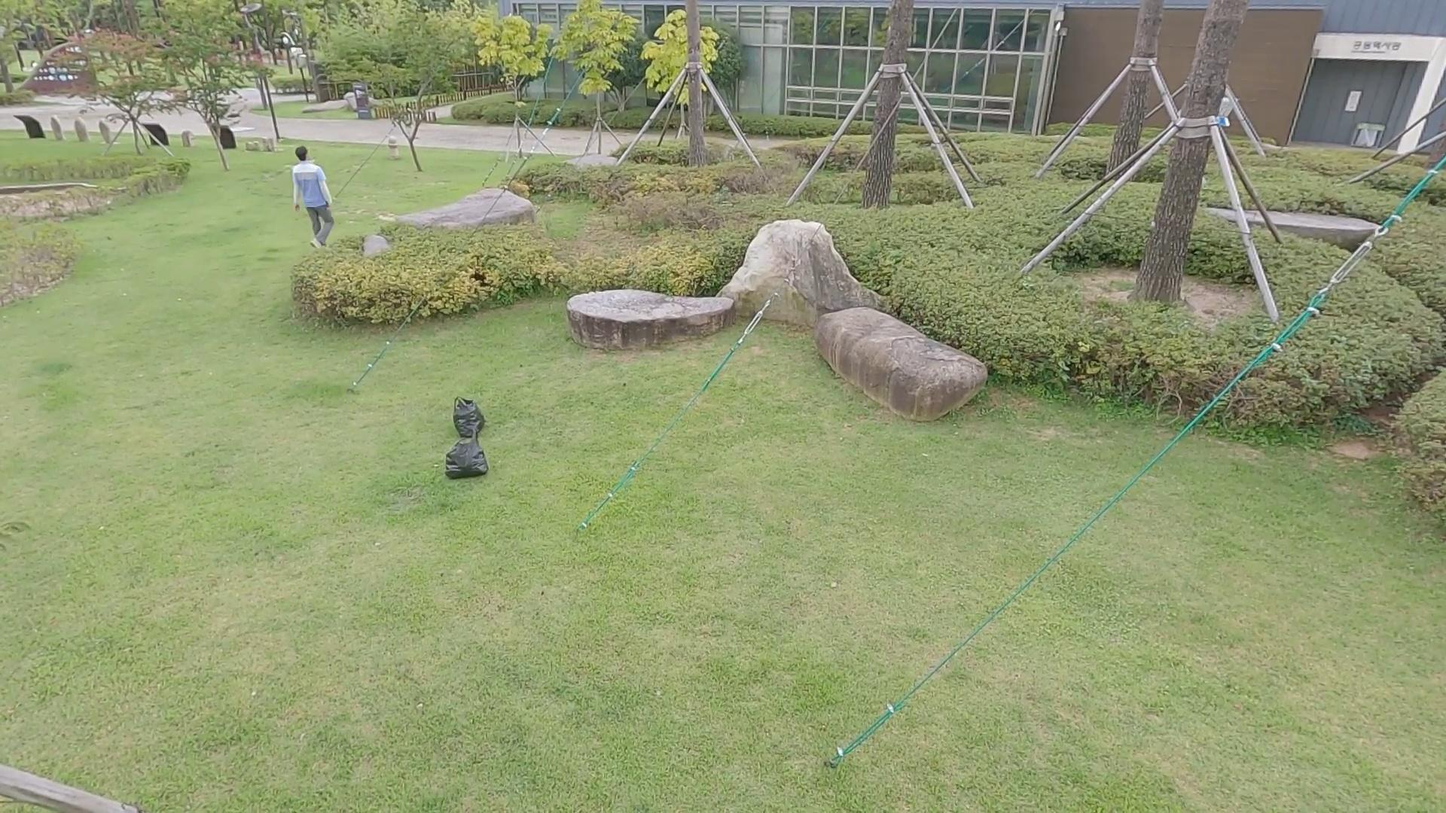person: (287, 138, 338, 253)
trash: (440, 434, 493, 478), (449, 393, 489, 440)
